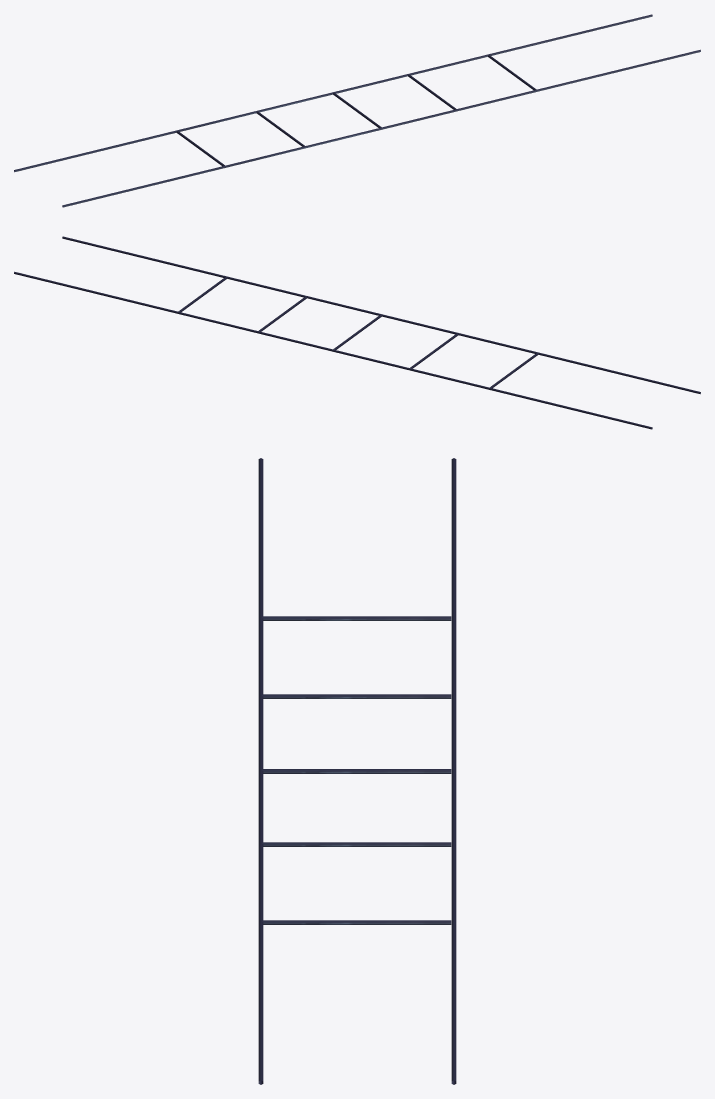
The model's file is Julebu_Jiazi2_fbx.FBX.
3 renders of one model, top to bottom at view 1: azimuth 30°, elevation 25°; view 2: azimuth 150°, elevation 25°; view 3: azimuth 270°, elevation 25°, orthographic. The views are drawn at different scales.
Parts seen in each view (by area): view 1: Object021; view 2: Object021; view 3: Object021.
Boxes of the visible parts, x1,y1,x2,y2 form: Object021: (14,14,700,207); Object021: (14,236,700,429); Object021: (258,458,456,1084).
Bounding box in the file's own units: 11.34 × 0.0397 × 1.52.
